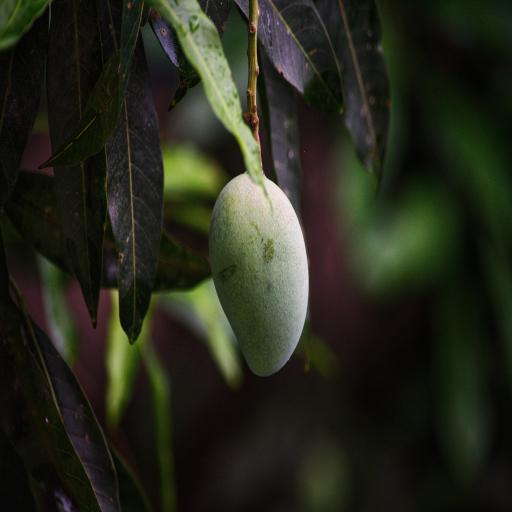Mango-Detection: (142, 117, 404, 431)
